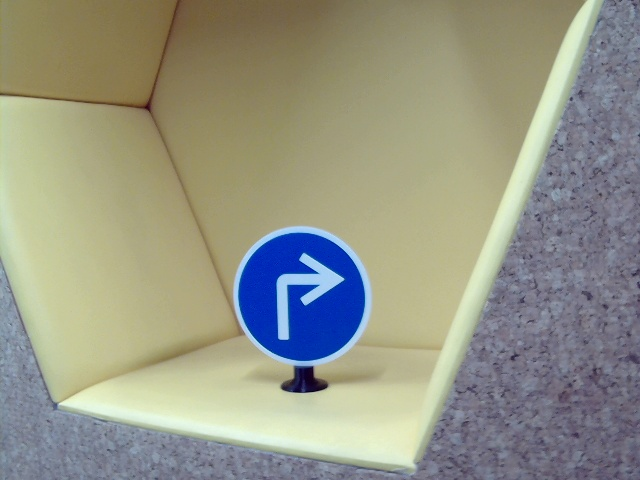turn_right: (263, 250, 345, 343)
